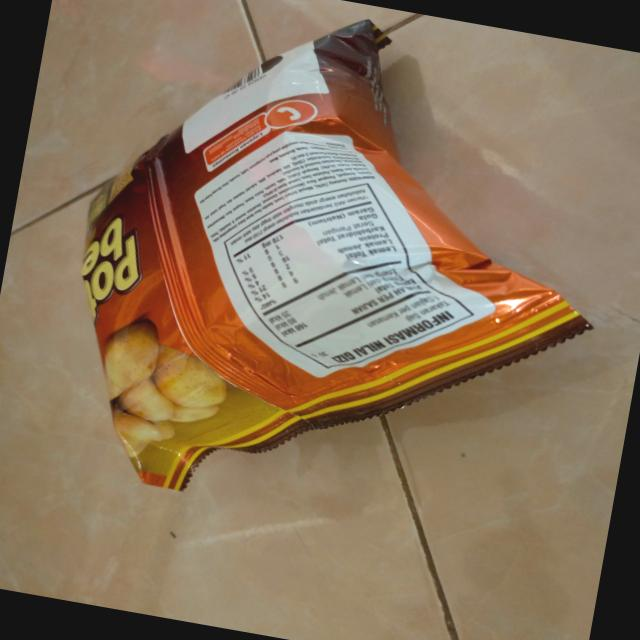potabee-ayam-bakar: (31, 0, 640, 558)
